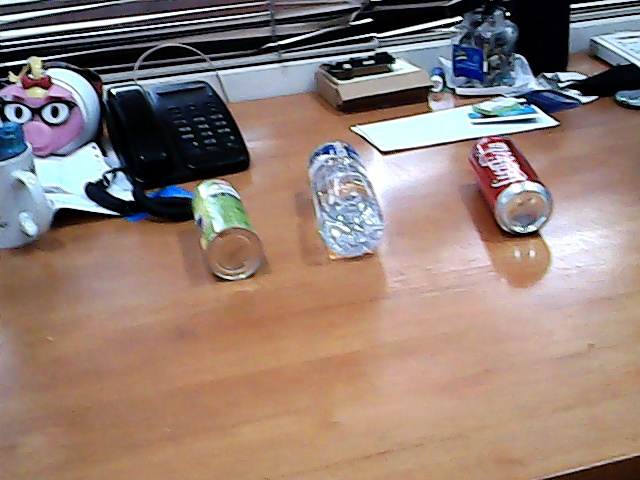Cola: (458, 117, 576, 251)
Pine Juice: (175, 171, 279, 289)
Summit Water: (291, 124, 398, 278)
